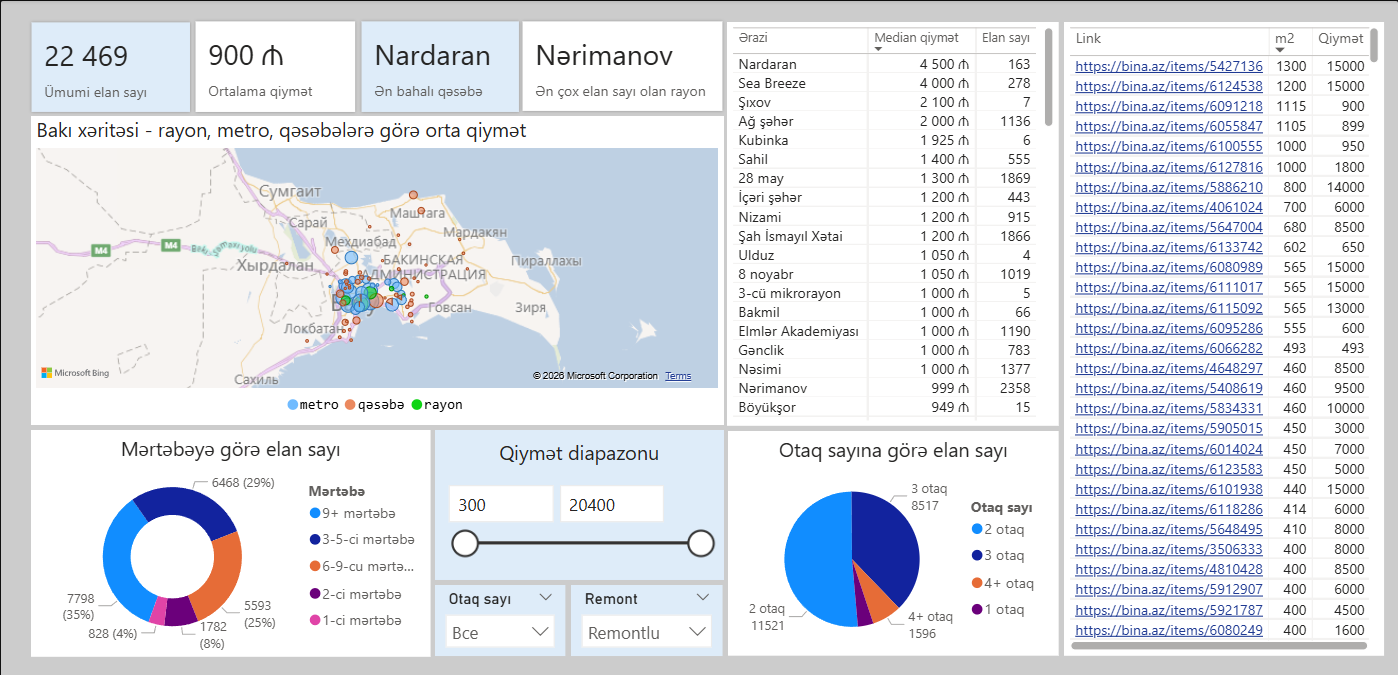

This screenshot's page, from the dashboard's own definition file:
{"tool":"powerbi","page":{"name":"Страница 1","canvas":[1320,640],"ordinal":0},"visuals":[{"type":"map","title":"Bakı xəritəsi - rayon, metro, qəsəbələrə görə orta qiymət","fields":{"Y":["Sheet1.latitude"],"X":["Sheet1.longitude"],"Series":["Sheet1.location_type"],"Size":["Sheet1.Elan sayı"]},"box":[29,109.8,653,291],"z":0},{"type":"cardVisual","fields":{"Data":["Sheet1.Количество объявлений"]},"box":[-1,10,211.8,106.9],"z":1000},{"type":"cardVisual","fields":{"Data":["Sheet1.Медиана цены"]},"box":[154,9.8,212,107],"z":2000},{"type":"cardVisual","fields":{"Data":["Sheet1.Дорогой район"]},"box":[310,9.8,210,107],"z":3000},{"type":"cardVisual","fields":{"Data":["Sheet1.Популярный район"]},"box":[462.8,9.8,250.6,106.9],"z":4000},{"type":"donutChart","title":"Mərtəbəyə görə elan sayı","fields":{"Category":["Sheet1.Группа этажа"],"Y":["Sheet1.Количество объявлений"]},"box":[29,406.1,376.7,214],"z":5000},{"type":"slicer","fields":{"Values":["Sheet1.rooms_category"]},"box":[410.4,552.1,123.3,66.7],"z":6000},{"type":"slicer","fields":{"Values":["Sheet1.repair_status"]},"box":[539,552.1,143.3,66.7],"z":7000},{"type":"slicer","title":"Qiymət diapazonu","fields":{"Values":["Sheet1.price_azn"]},"box":[410.4,406.1,272,141.3],"z":8000},{"type":"pieChart","title":"Otaq sayına görə elan sayı","fields":{"Category":["Sheet1.Otaq sayı"],"Y":["Sheet1.Количество объявлений"]},"box":[687,406.8,312,212],"z":9000},{"type":"tableEx","fields":{"Values":["Sheet1.location_name","Sheet1.Медиана цены","Sheet1.Количество объявлений"]},"box":[686,20.8,313,381],"z":10000},{"type":"tableEx","fields":{"Values":["Sheet1.Link","Sheet1.area_m2","Sheet1.Qiymət"]},"box":[1004.2,21,301.8,597.5],"z":11000}]}

Visuals, with their boxes in screenshot pixels (x1, y1, x2, y2), scaled from the page's 1320x640 canvas onto the 1398x675 screenshot:
"Bakı xəritəsi - rayon, metro, qəsəbələrə görə orta qiymət" map: [31,116,722,423]
cardVisual - Sheet1.Количество объявлений: [0,11,223,123]
cardVisual - Sheet1.Медиана цены: [163,10,388,123]
cardVisual - Sheet1.Дорогой район: [328,10,551,123]
cardVisual - Sheet1.Популярный район: [490,10,756,123]
"Mərtəbəyə görə elan sayı" donutChart: [31,428,430,654]
slicer - Sheet1.rooms_category: [435,582,565,653]
slicer - Sheet1.repair_status: [571,582,723,653]
"Qiymət diapazonu" slicer: [435,428,723,577]
"Otaq sayına görə elan sayı" pieChart: [728,429,1058,653]
tableEx - Sheet1.location_name x Sheet1.Медиана цены: [727,22,1058,424]
tableEx - Sheet1.Link x Sheet1.area_m2: [1064,22,1383,652]
